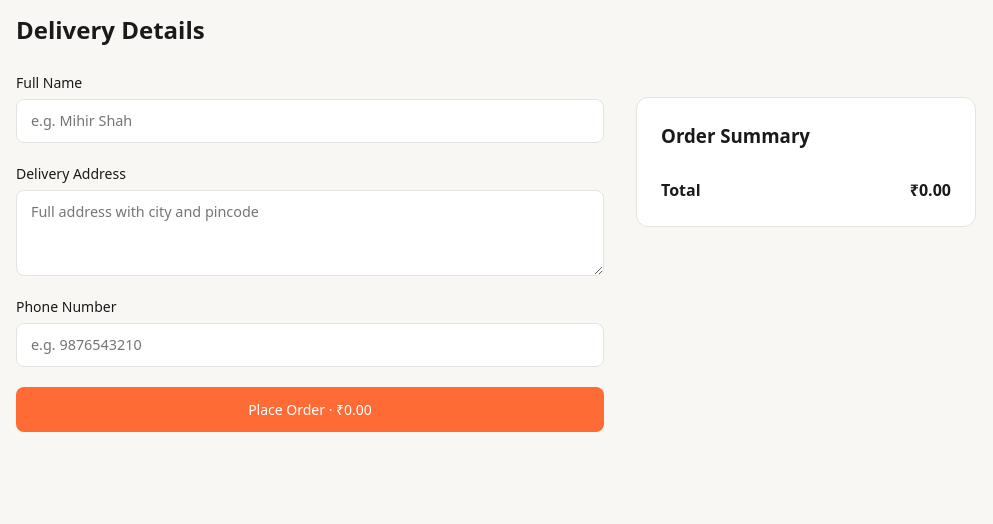
Scenario: CheckoutForm › shows validation errors on empty submit
The image size is (993, 524).
Click the button "Place Order · ₹0.00".
click(310, 409)  # box top-left (16, 387), bottom-right (604, 432)
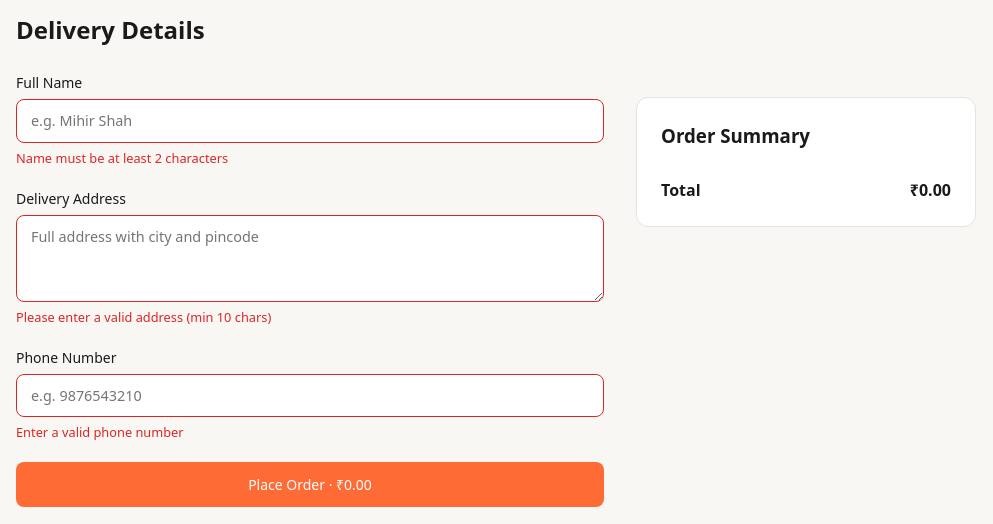
Result: the text "Name must be at least 2 characters" is shown at top-left (16, 149), bottom-right (228, 167)
Result: the text "Please enter a valid address (min 10 chars)" is shown at top-left (16, 308), bottom-right (271, 326)
Result: the text "Enter a valid phone number" is shown at top-left (16, 423), bottom-right (184, 441)
